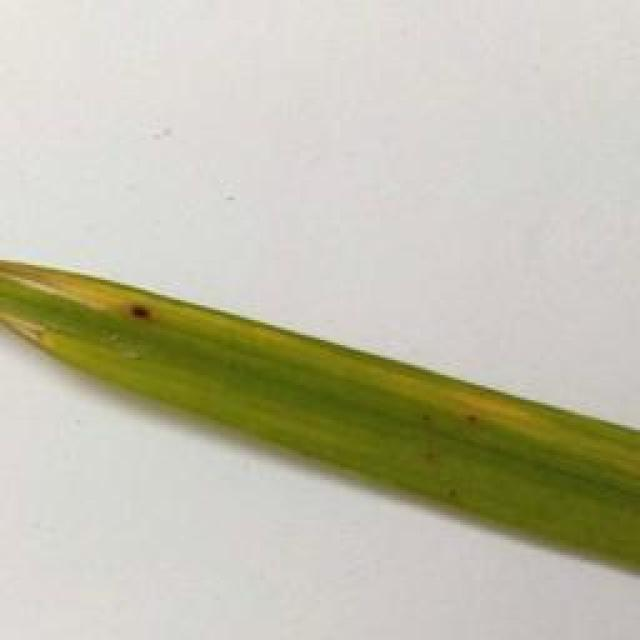Brown_Spot: (119, 290, 159, 327), (425, 451, 442, 473), (462, 409, 482, 426), (418, 404, 436, 421), (443, 486, 458, 501)
